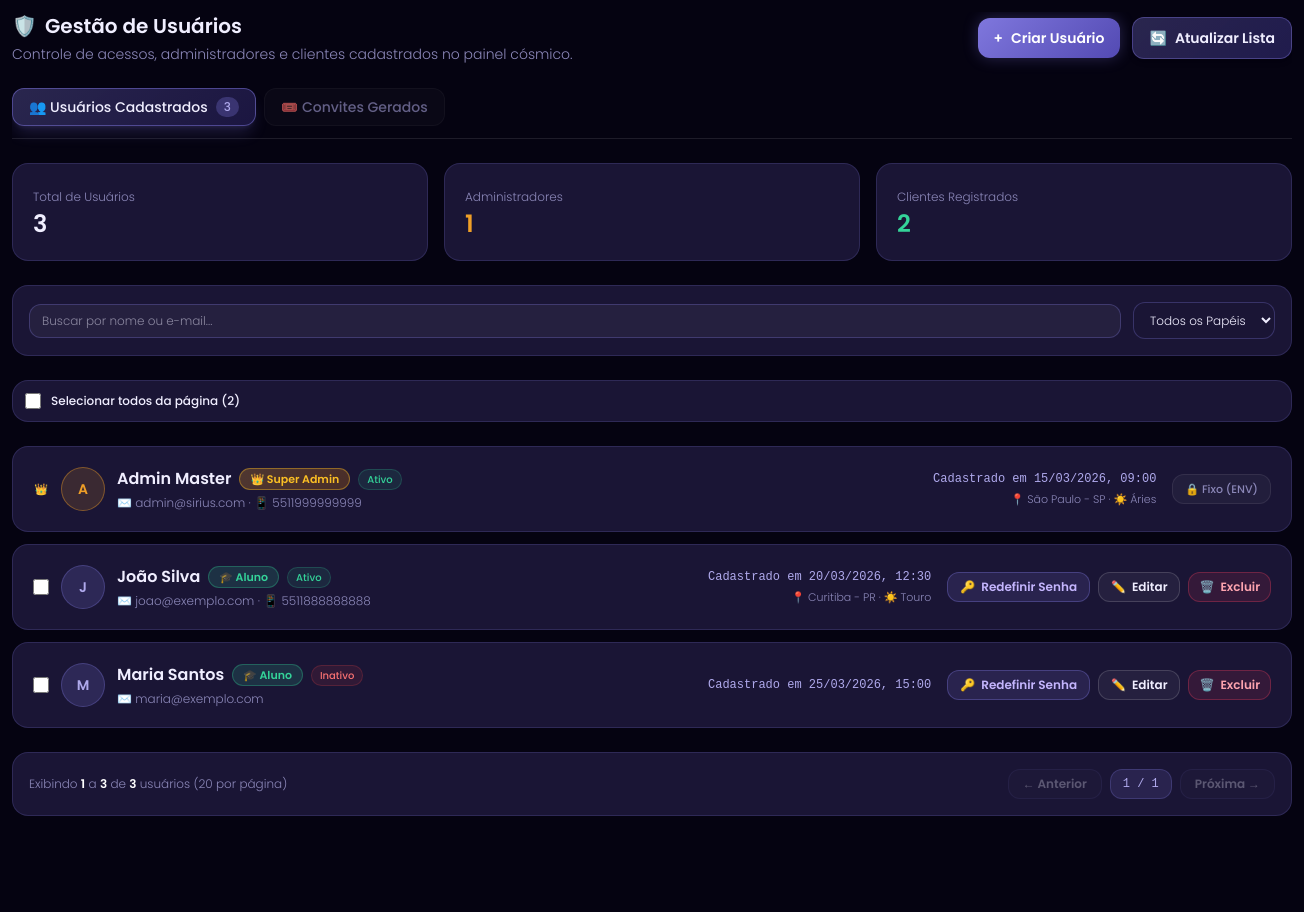
GestaoUsuarios Component › permite selecionar e desmarcar todos os usuários elegíveis da página via checkbox mestre
Click the checkbox with test id "select-all-users-btn". click: x=33, y=401
box: [25,393,41,409]
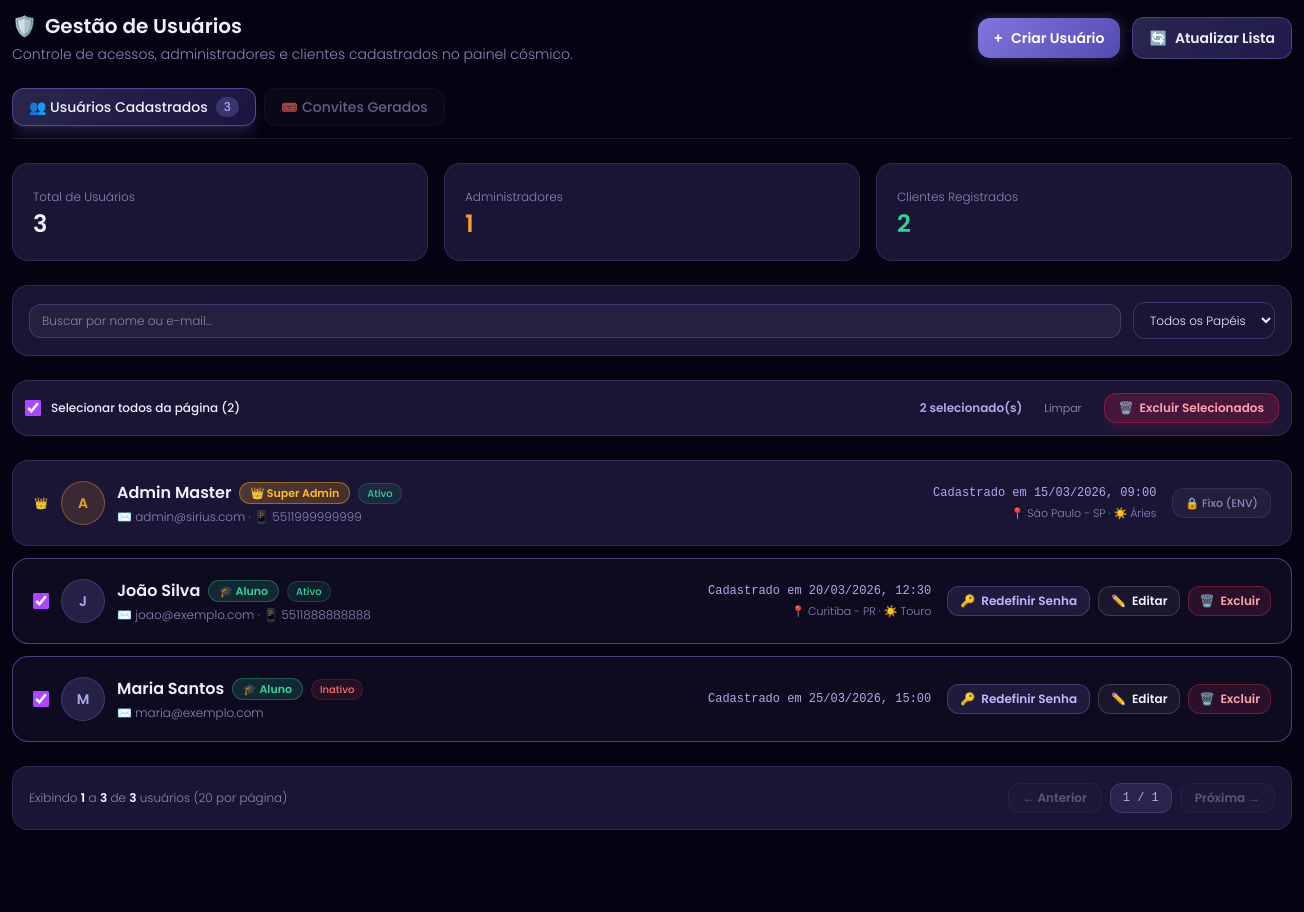
expect the checkbox with test id "select-user-2" is checked: met, box [33,593,49,609]
expect the checkbox with test id "select-user-3" is checked: met, box [33,691,49,707]
Click the checkbox with test id "select-all-users-btn". click: x=33, y=408
box: [25,400,41,416]
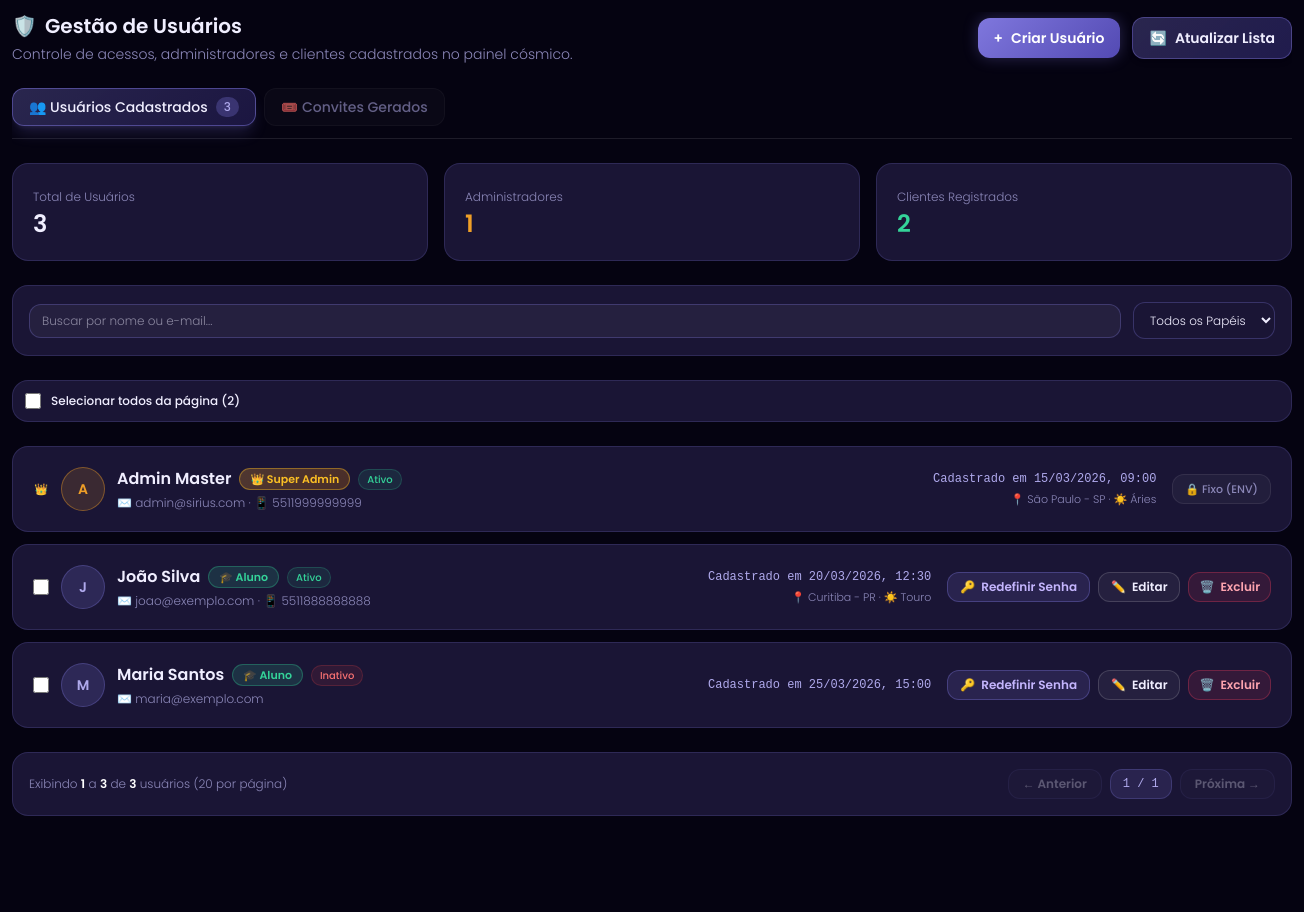
expect the checkbox with test id "select-user-2" is not checked: met, box [33,579,49,595]
expect the checkbox with test id "select-user-3" is not checked: met, box [33,677,49,693]
